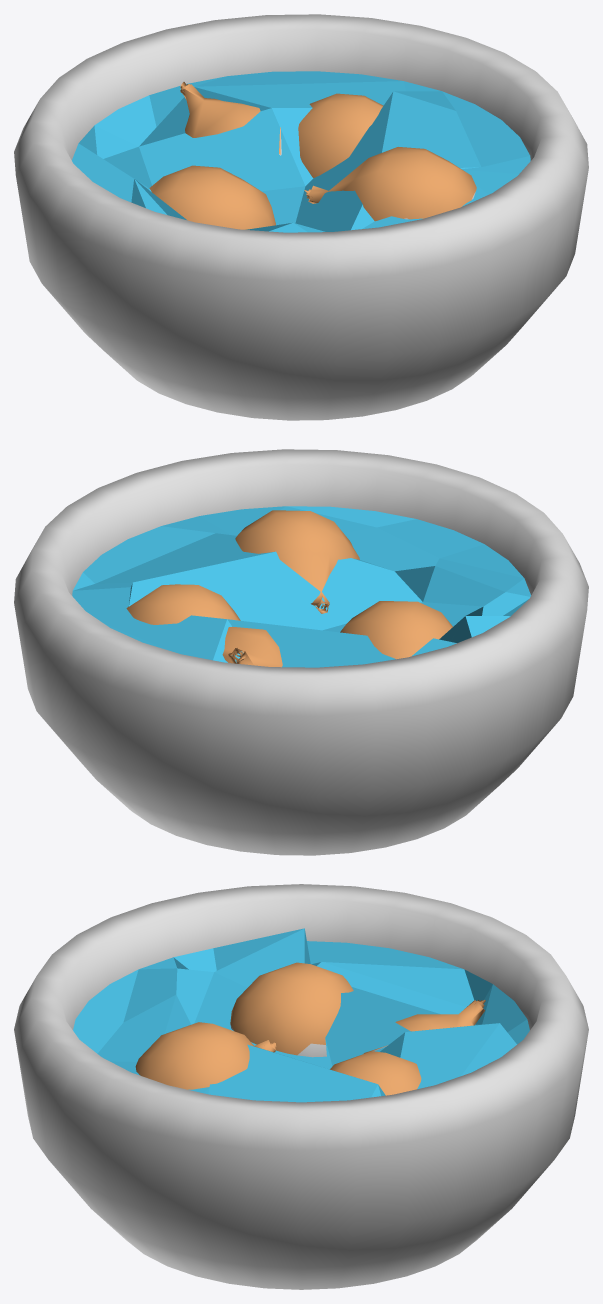
Rendered from onionSoup.fbx.
The picture shows the model from 3 angles, top to bottom: view 1: azimuth 30°, elevation 25°; view 2: azimuth 150°, elevation 25°; view 3: azimuth 270°, elevation 25°; orthographic projection.
Parts seen in each view (by area): view 1: onionSoup; view 2: onionSoup; view 3: onionSoup.
Boxes of the visible parts, x1,y1,x2,y2 form: onionSoup: [14, 14, 588, 420]; onionSoup: [14, 449, 588, 855]; onionSoup: [14, 884, 588, 1289].
Bounding box in the file's own units: 252 × 102 × 252.
